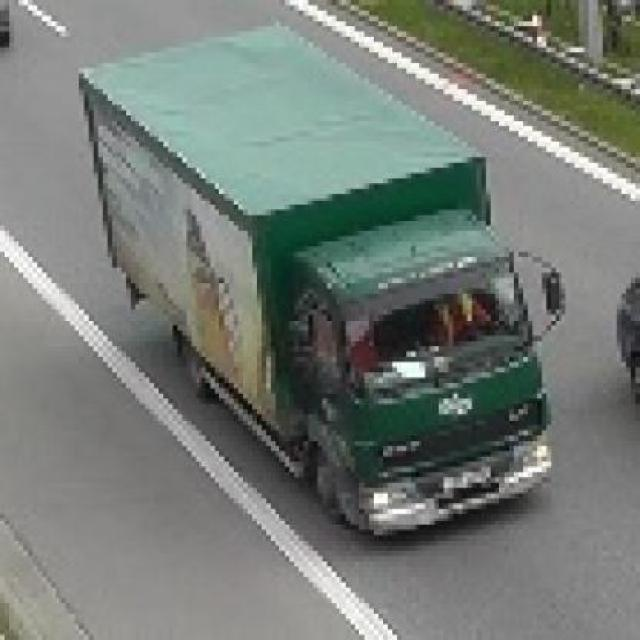truck: (85, 11, 576, 542)
